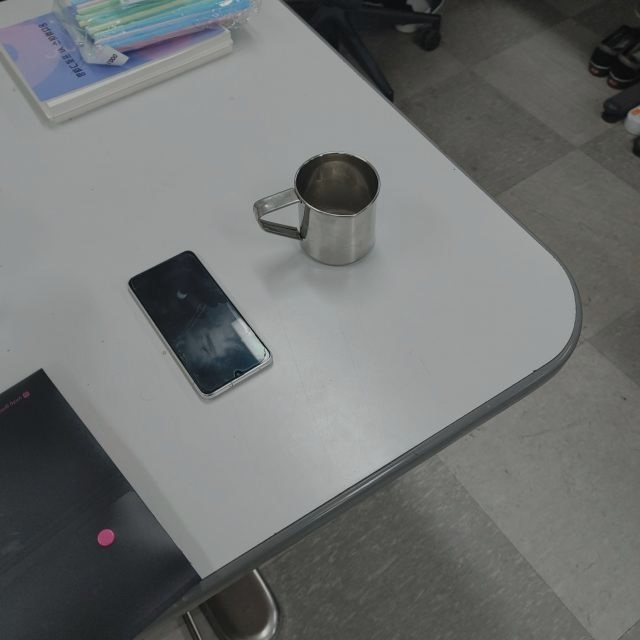cup: (253, 151, 380, 265)
phone: (126, 247, 272, 400)
